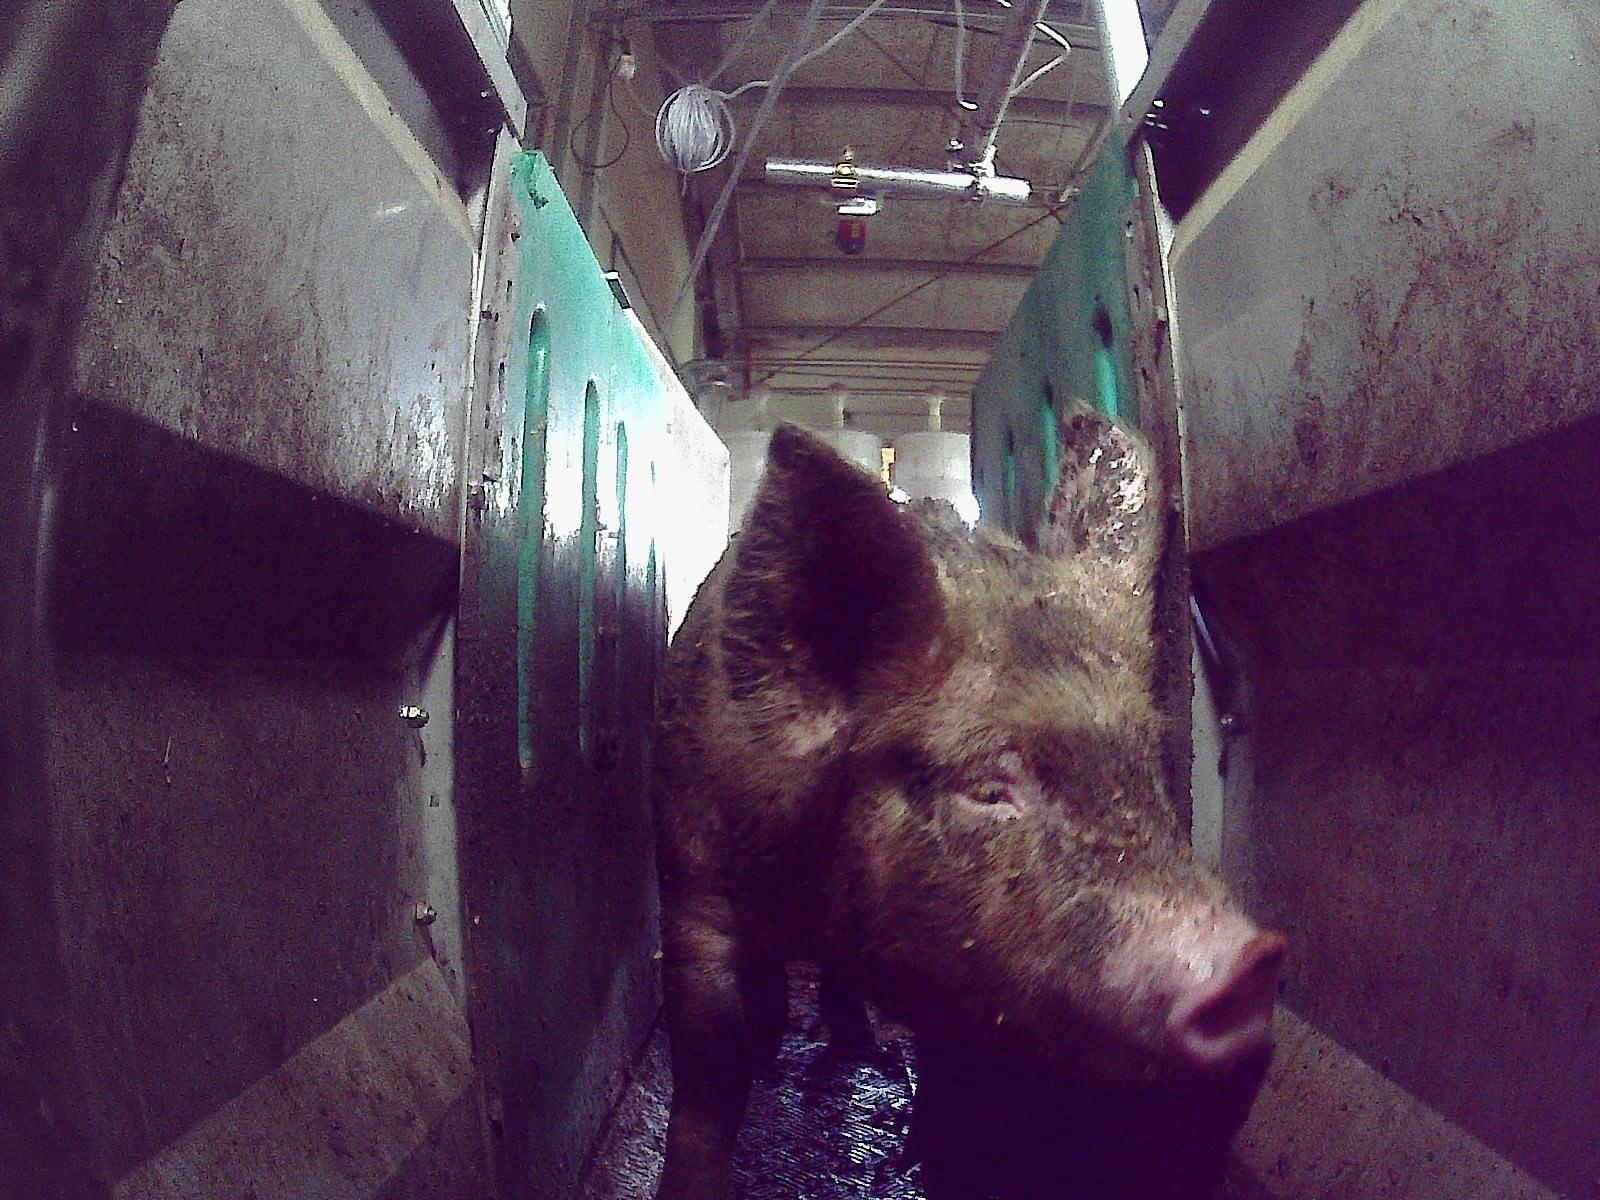Face: (780, 517, 1285, 1096)
